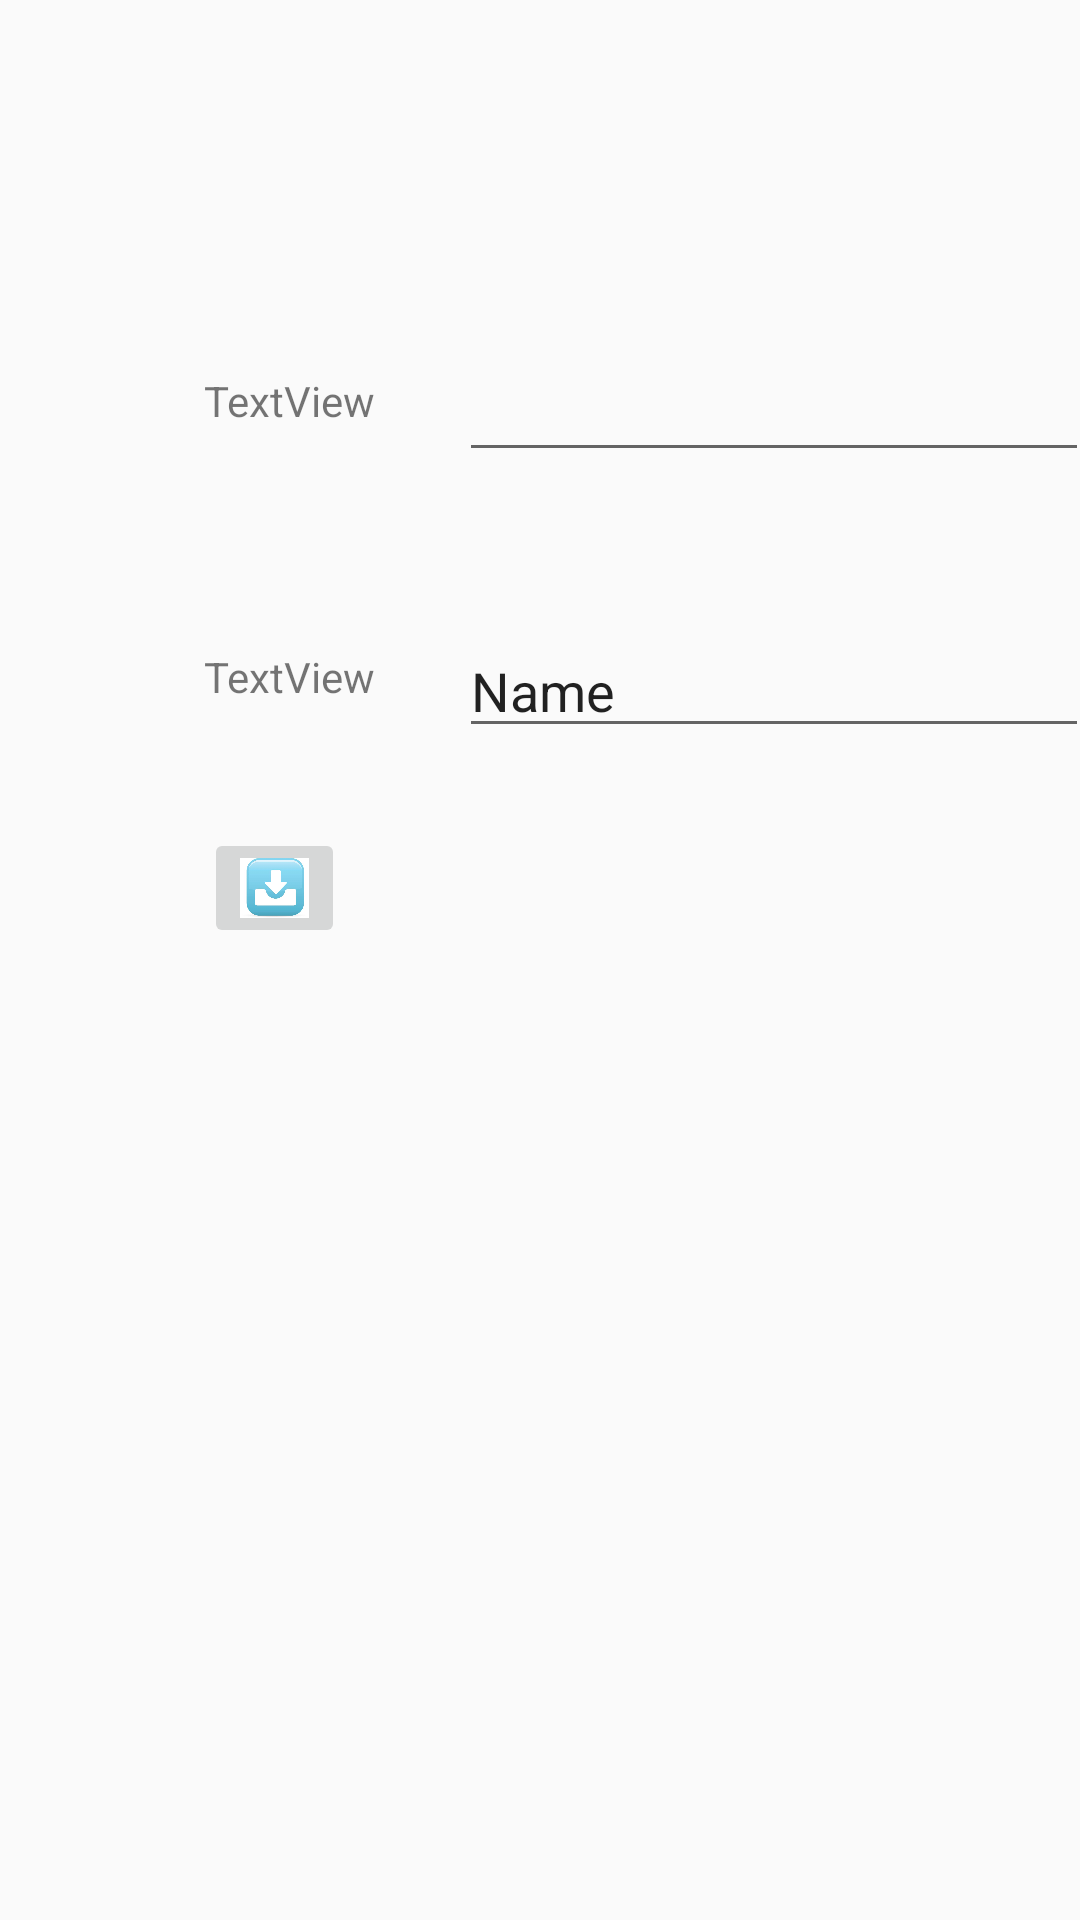

Where to tap for icons on this 1080px×1920px app screen, as (x=x, y=y):
download: (x=274, y=888)
